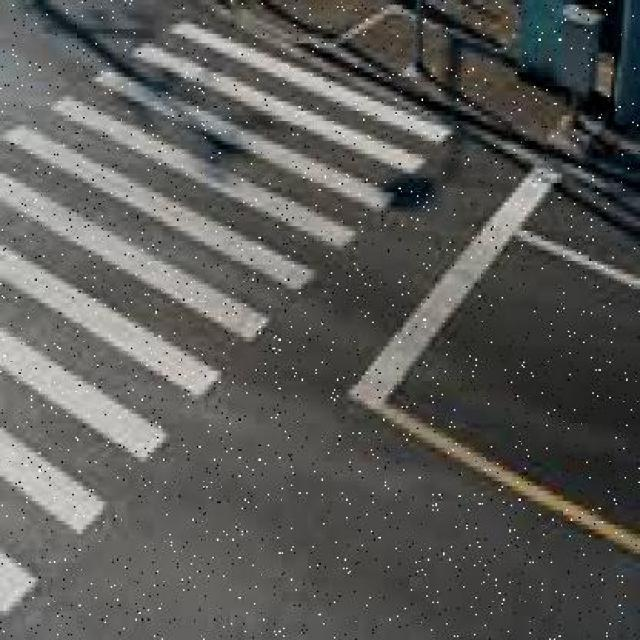crosswalk: (0, 16, 457, 613)
